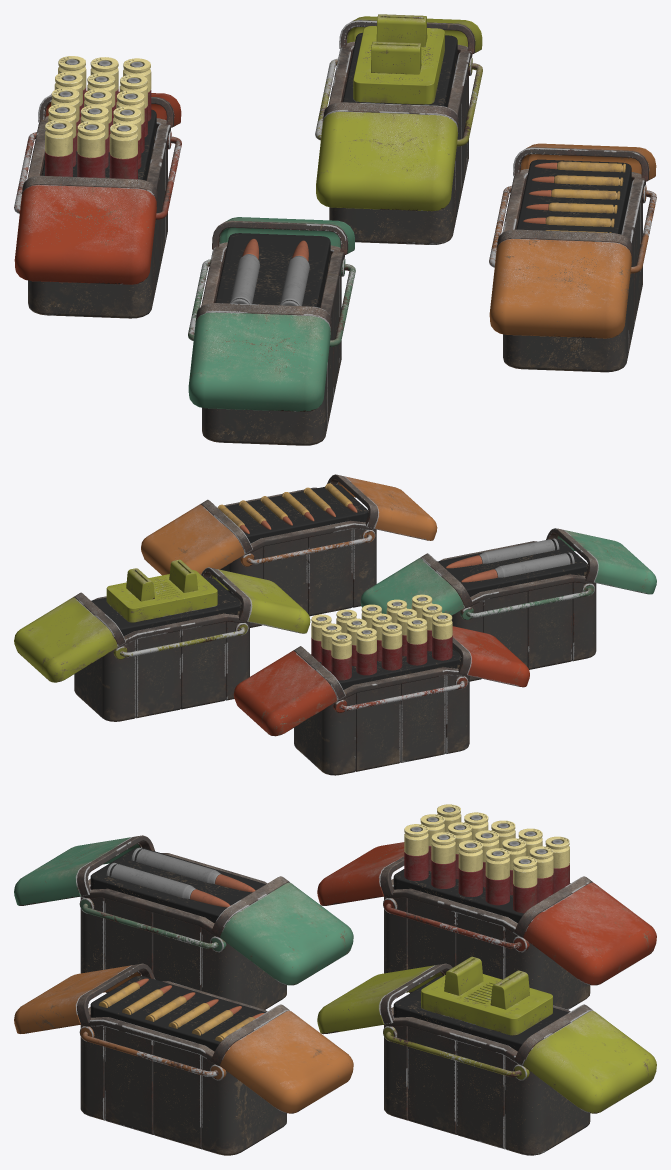
3 views of the same model, one above another, from view 1: azimuth 30°, elevation 25°; view 2: azimuth 150°, elevation 25°; view 3: azimuth 270°, elevation 25° (orthographic). The views are drawn at different scales.
Parts seen in each view (by area): view 1: BulletsCase_Heavy, BulletsCase_Light, BulletsCase_Energy, BulletsCase_SG, Bullets_SG, Bullets_Energy, Bullets_Light, Bullets_Heavy; view 2: BulletsCase_Energy, BulletsCase_SG, BulletsCase_Light, BulletsCase_Heavy, Bullets_SG, Bullets_Energy, Bullets_Heavy, Bullets_Light; view 3: BulletsCase_Light, BulletsCase_Energy, BulletsCase_Heavy, BulletsCase_SG, Bullets_SG, Bullets_Energy, Bullets_Heavy, Bullets_Light.
Part boxes in pixels (x1,y1,x2,y2): BulletsCase_Heavy: (188, 217, 355, 445); BulletsCase_Light: (489, 143, 656, 372); BulletsCase_Energy: (315, 16, 482, 244); BulletsCase_SG: (14, 90, 181, 318); Bullets_SG: (45, 56, 151, 179); Bullets_Energy: (353, 14, 444, 104); Bullets_Light: (523, 161, 625, 232); Bullets_Heavy: (230, 239, 309, 306); BulletsCase_Energy: (14, 567, 310, 721); BulletsCase_SG: (233, 626, 529, 775); BulletsCase_Light: (141, 474, 437, 627); BulletsCase_Heavy: (360, 528, 656, 681); Bullets_SG: (311, 594, 452, 680); Bullets_Energy: (106, 559, 217, 622); Bullets_Heavy: (446, 538, 574, 582); Bullets_Light: (217, 483, 357, 533); BulletsCase_Light: (14, 963, 353, 1155); BulletsCase_Energy: (317, 963, 656, 1155); BulletsCase_Heavy: (14, 835, 353, 1009); BulletsCase_SG: (317, 842, 656, 1009); Bullets_SG: (404, 804, 569, 913); Bullets_Energy: (421, 956, 552, 1035); Bullets_Heavy: (106, 847, 255, 907); Bullets_Light: (98, 978, 264, 1041).
Bounding box in the file's own units: 30.93 × 8.98 × 33.93.
8 materials, 8 textured.
